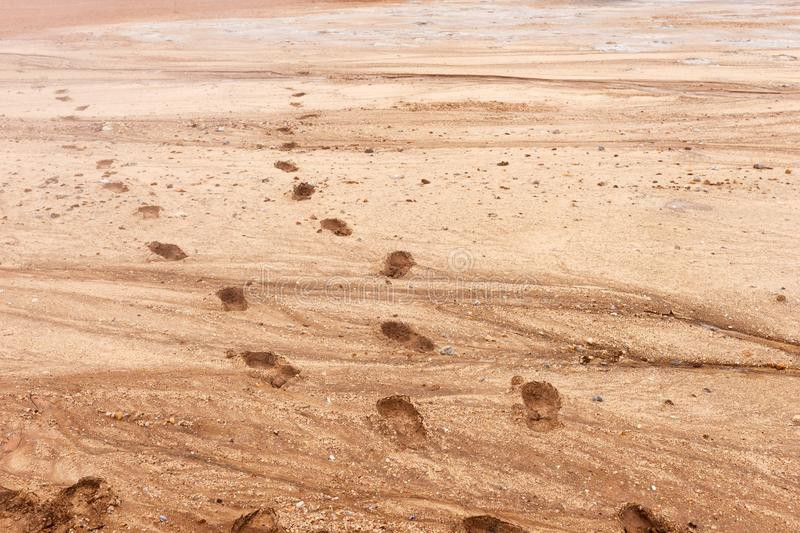human_foot_print: (508, 366, 576, 448), (373, 383, 446, 455), (225, 344, 314, 396), (377, 314, 450, 361), (213, 279, 256, 319), (140, 234, 189, 267), (380, 239, 414, 286), (310, 210, 355, 243), (289, 177, 319, 207), (138, 203, 168, 221), (275, 158, 298, 173)
